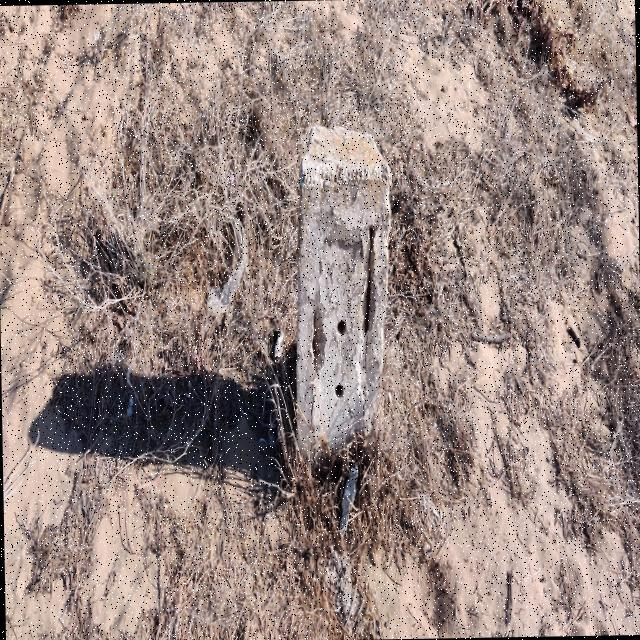Plastic film: (207, 218, 246, 315)
Unlabeled litter: (274, 331, 283, 355)
